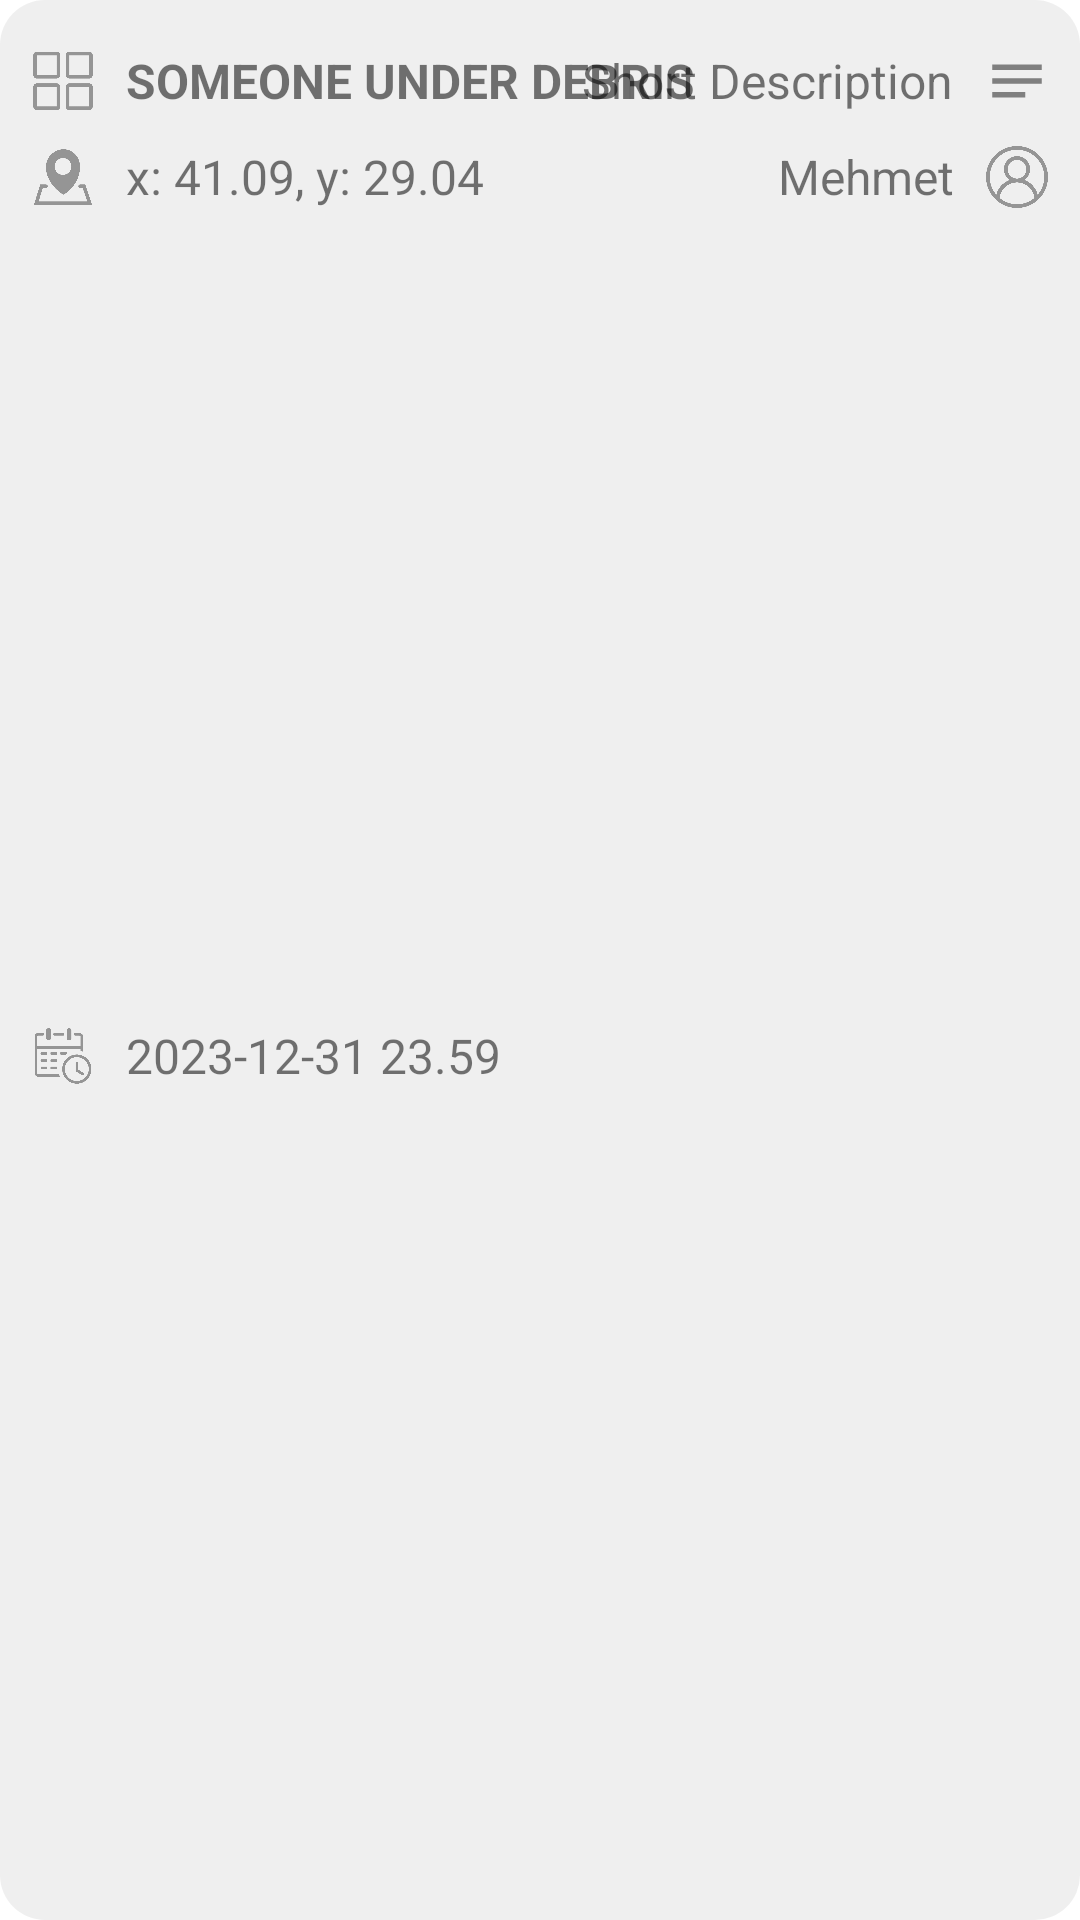

Where icons sit on this 1080 x 1920 app screen, as (x1, y1, x2, y2):
notes: (992, 64, 1042, 98)
recyc category: (33, 52, 93, 110)
recyc date time: (35, 1028, 91, 1084)
recyc location: (34, 149, 92, 205)
recyc user: (986, 146, 1048, 208)
